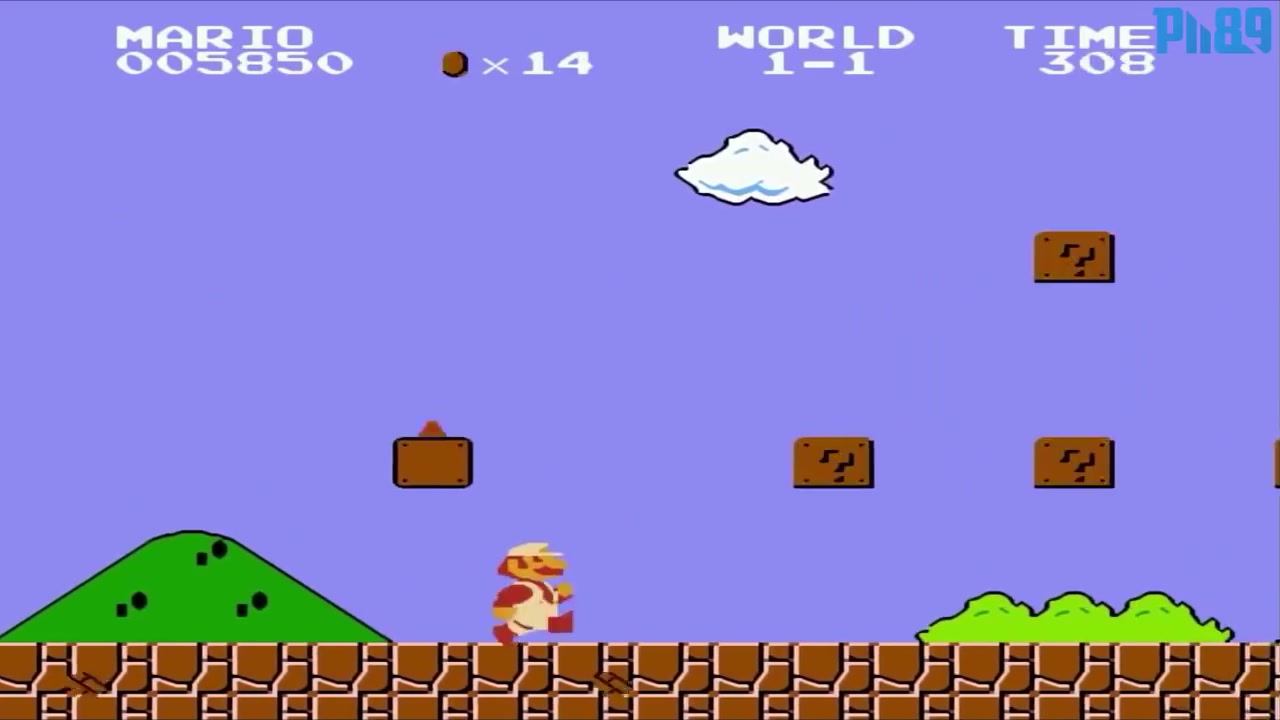mario: (480, 534, 582, 648)
